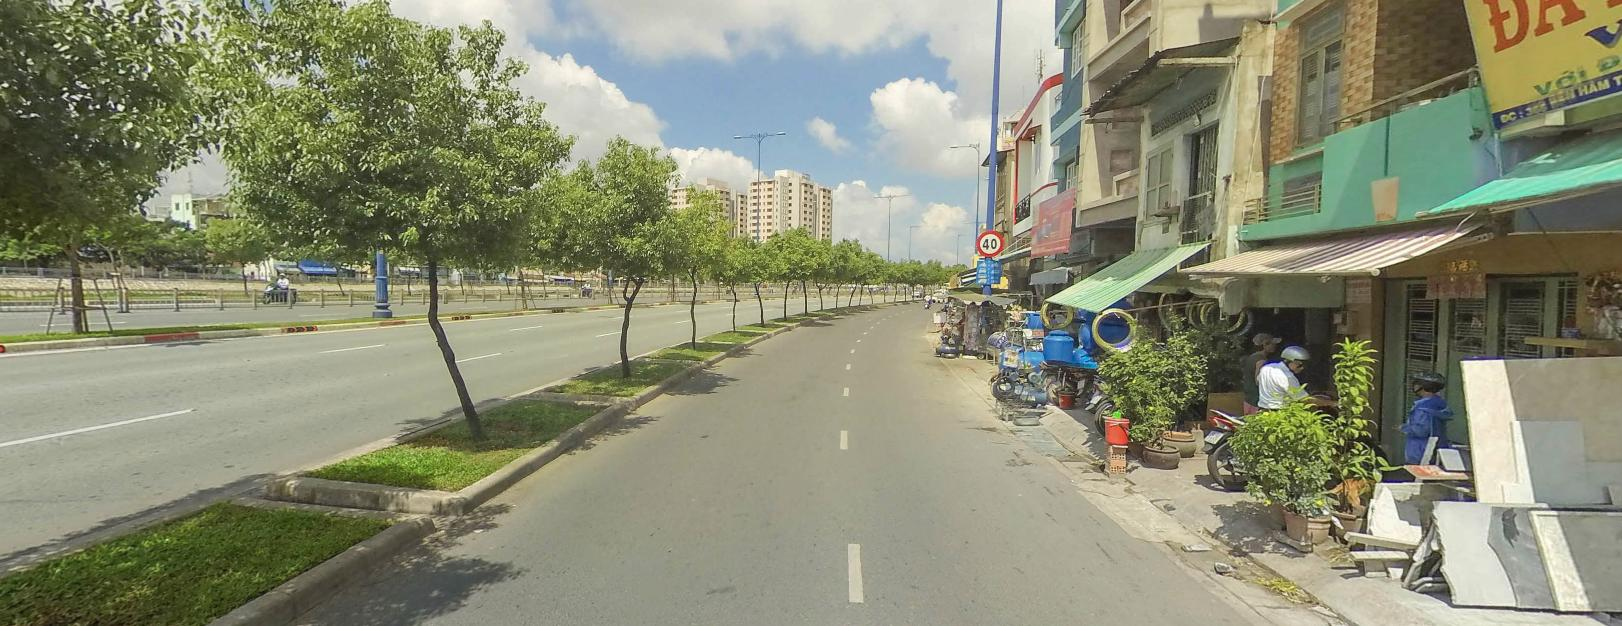Gioi han toc do: (977, 228, 1004, 256)
